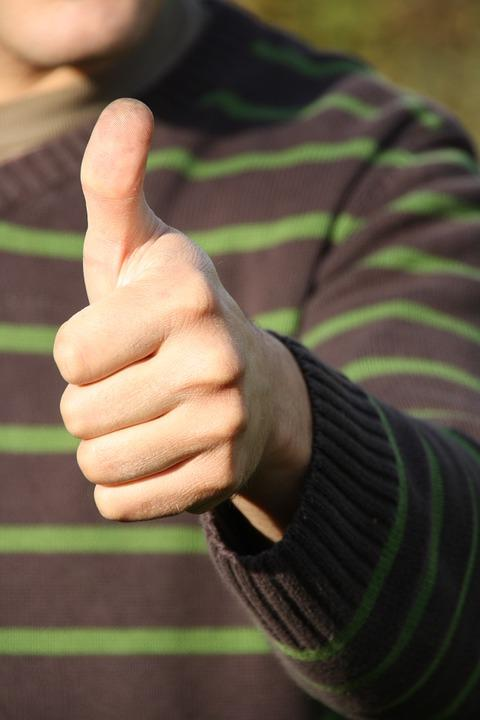thumbsup: (51, 97, 252, 523)
